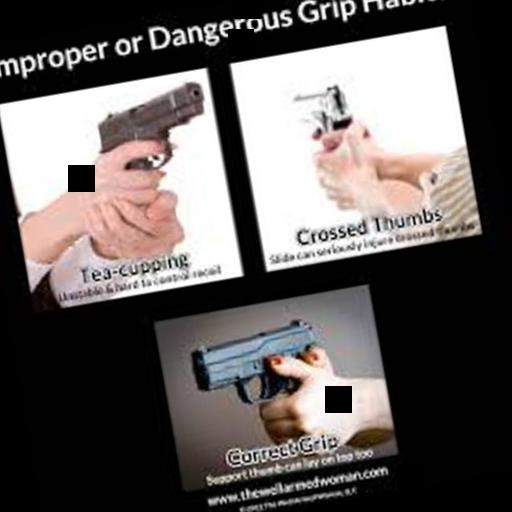Handgun: (180, 307, 334, 426), (82, 76, 215, 188), (286, 78, 356, 148)
